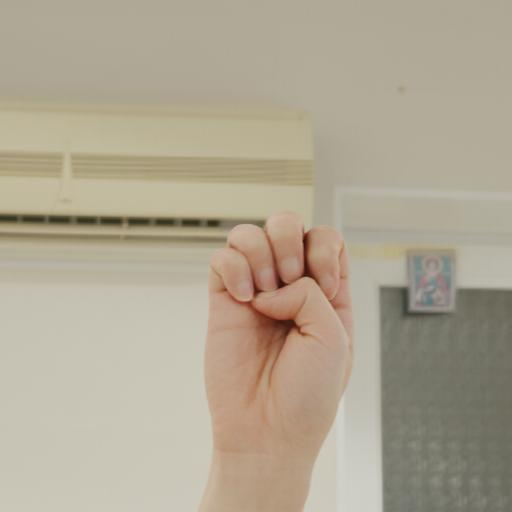E: (196, 206, 362, 486)
